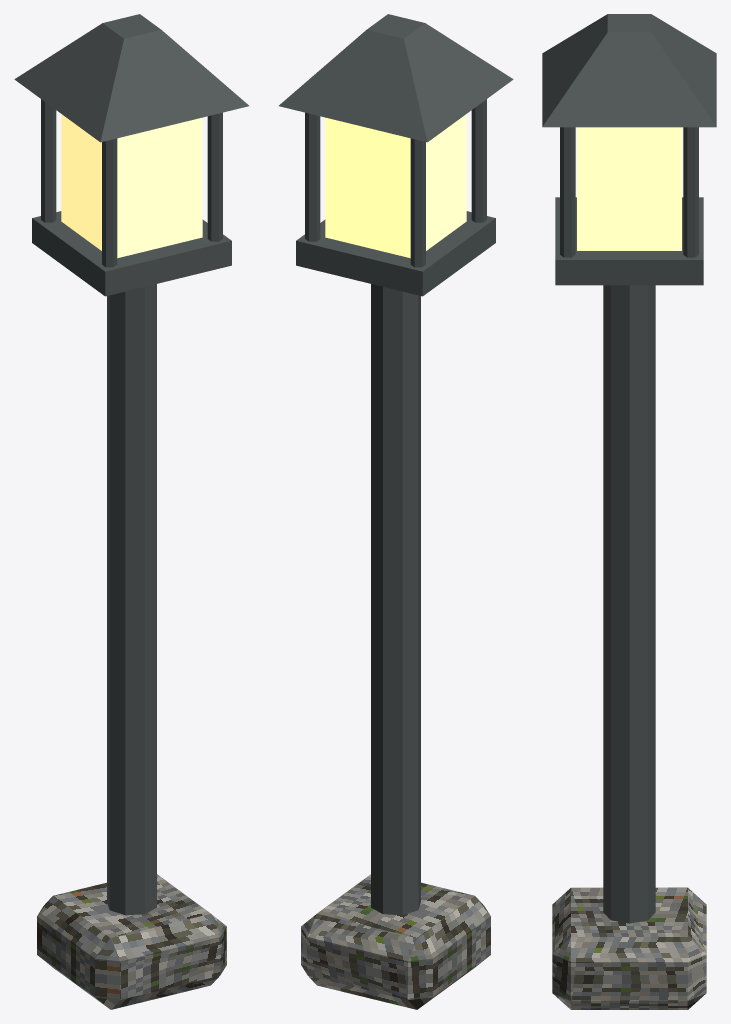
File: lamp.glb
3 renders of one model, left to right at view 1: azimuth 30°, elevation 25°; view 2: azimuth 150°, elevation 25°; view 3: azimuth 270°, elevation 25°, orthographic.
Visible parts, largest first — view 1: lamp_iron, lamp_stone, lamp_window_glow; view 2: lamp_iron, lamp_stone, lamp_window_glow; view 3: lamp_iron, lamp_stone, lamp_window_glow.
Part boxes in pixels (bbox=[...]): lamp_iron: bbox=[14, 14, 248, 915]; lamp_stone: bbox=[37, 874, 226, 1009]; lamp_window_glow: bbox=[61, 114, 202, 258]; lamp_iron: bbox=[279, 14, 513, 915]; lamp_stone: bbox=[301, 874, 490, 1009]; lamp_window_glow: bbox=[325, 114, 466, 258]; lamp_iron: bbox=[542, 14, 716, 923]; lamp_stone: bbox=[552, 887, 706, 1009]; lamp_window_glow: bbox=[577, 127, 681, 250].
Bounding box in the file's own units: 0.5657 × 3.44 × 0.5657.
Materials: 3 (1 with a texture image).
